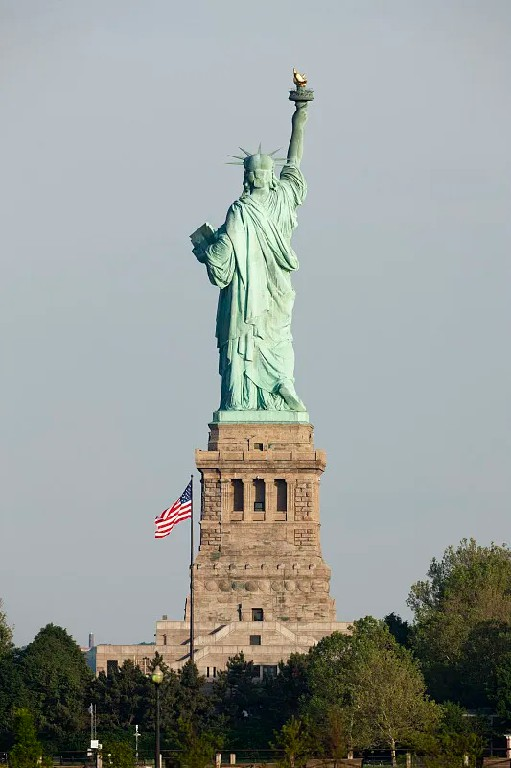SL: (184, 66, 335, 622)
